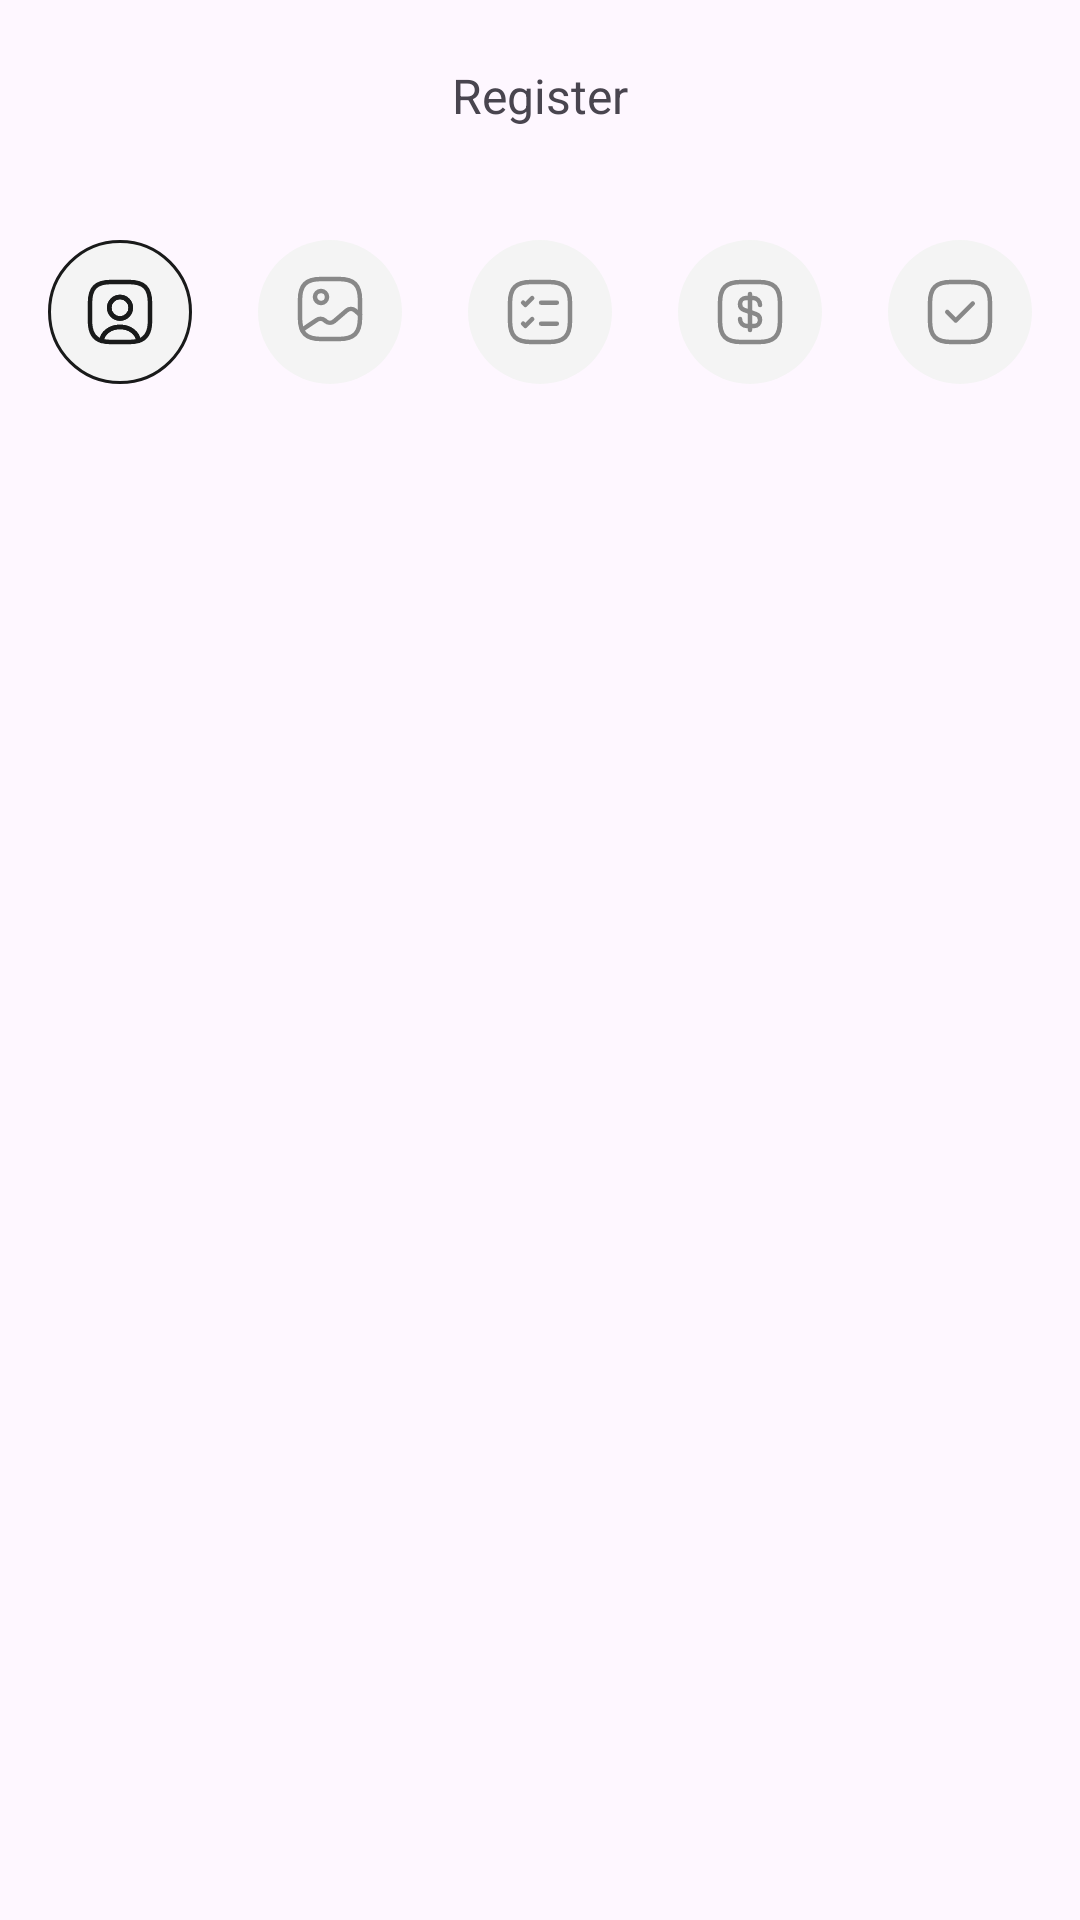

Screen size 1080×1920. Icon name, then its center in pixels as (x=x, y=y):
step done: (x=960, y=312)
step payment method: (x=750, y=312)
step personal info: (x=120, y=312)
step preferences: (x=540, y=312)
step profile pic: (x=330, y=312)
